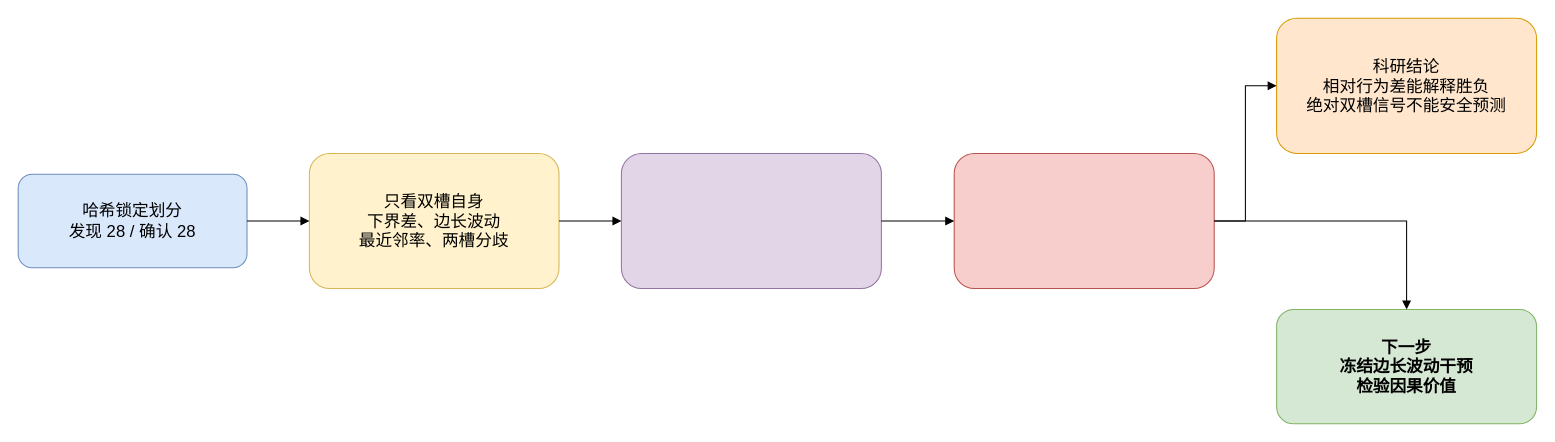
This 1555x442 diagram has some shape labels left out. Here are the shapes that lost their labels. From the top down, the box of each, then its label:
(620, 152, 881, 289): 140 个冻结单阈值 要求至少接受一半 同时限制平均与尾部伤害
(953, 152, 1214, 289): 0 个通过 最近规则仍有 p90 +1.95% 确认标签保持未打开
